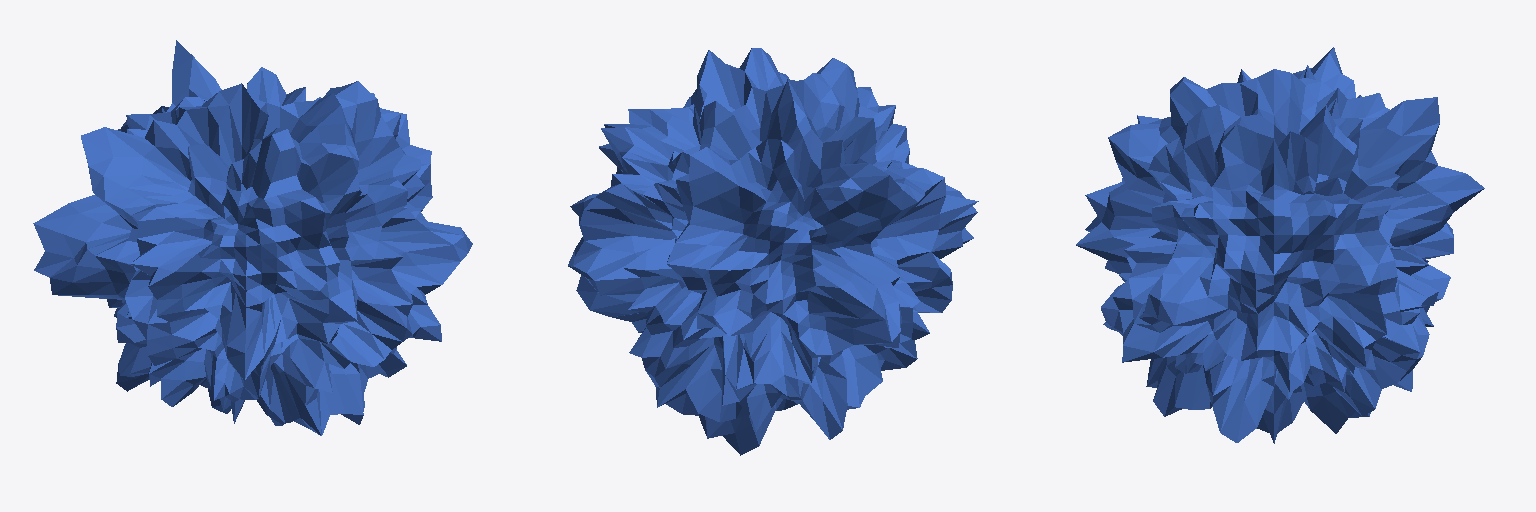
Rendered from blueGlow.obj.
The picture shows the model from 3 angles: view 1: azimuth 30°, elevation 25°; view 2: azimuth 150°, elevation 25°; view 3: azimuth 270°, elevation 25°; orthographic projection.
Parts seen in each view (by area): view 1: Cube_Cube.001; view 2: Cube_Cube.001; view 3: Cube_Cube.001.
Boxes of the visible parts, x1=… form: Cube_Cube.001: x1=33, y1=40, x2=472, y2=435; Cube_Cube.001: x1=568, y1=48, x2=978, y2=455; Cube_Cube.001: x1=1076, y1=47, x2=1484, y2=443.
Bounding box in the file's own units: 2.35 × 2.32 × 2.41.